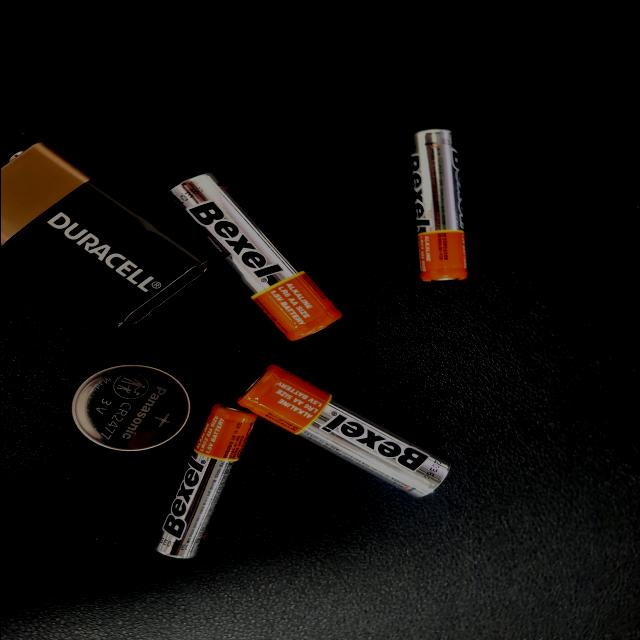9V: (435, 314, 640, 498)
AA: (299, 299, 475, 467), (191, 143, 404, 275)
AAA: (384, 81, 486, 236), (174, 359, 232, 511)
COIN: (451, 189, 568, 275)
